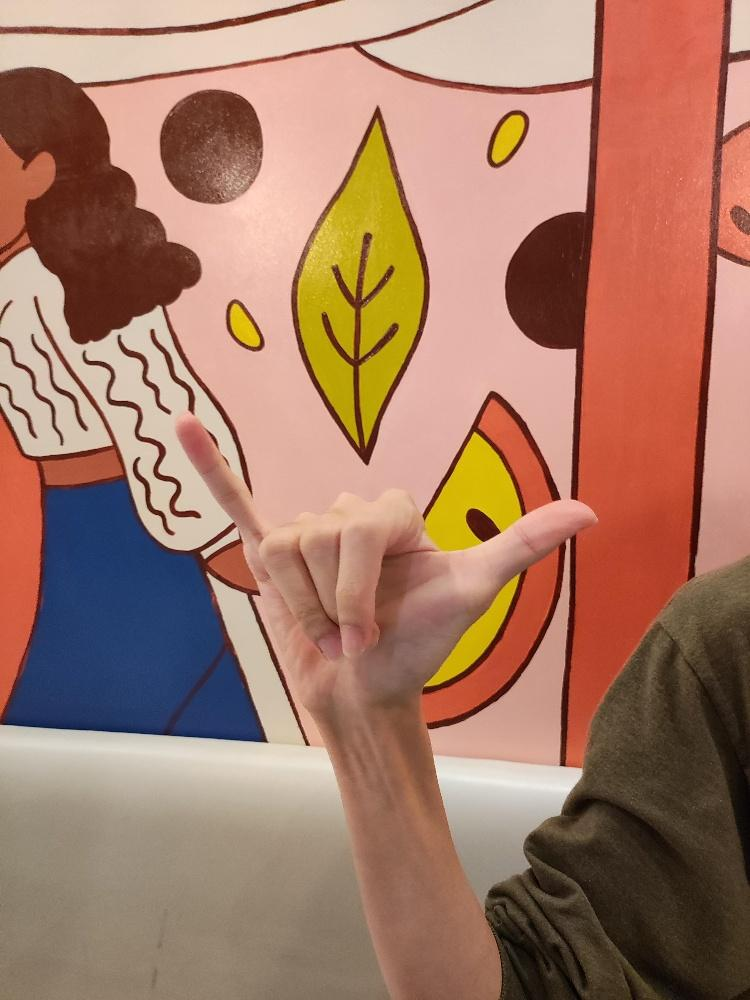y: (170, 402, 601, 724)
